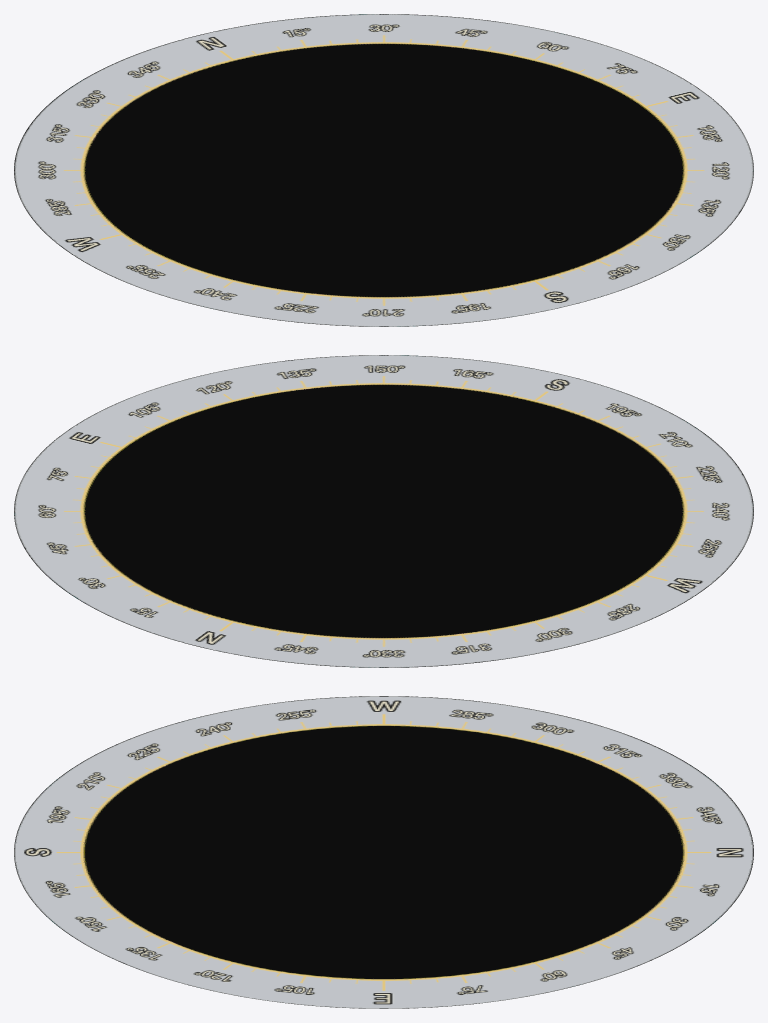
File: scene_compass.glb
3 renders of one model, top to bottom at view 1: azimuth 30°, elevation 25°; view 2: azimuth 150°, elevation 25°; view 3: azimuth 270°, elevation 25°, orthographic.
Size of the model in its own units: 2.44 by 0 by 2.44.
1 material, 1 textured.
